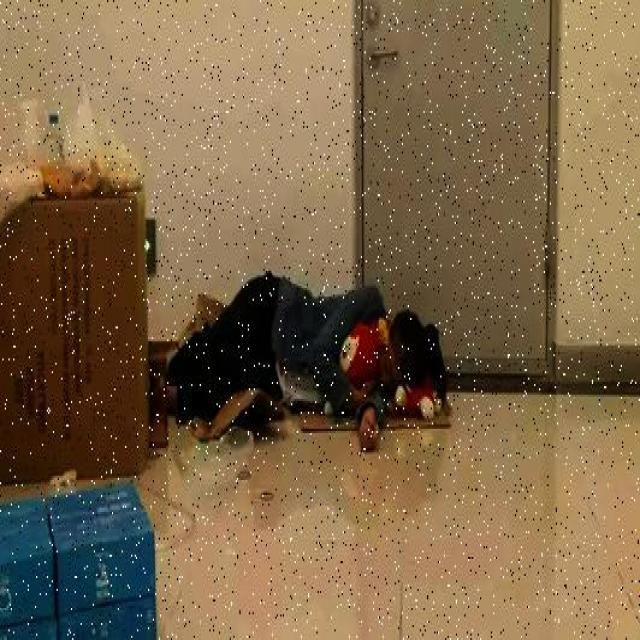fall: (183, 271, 443, 431)
